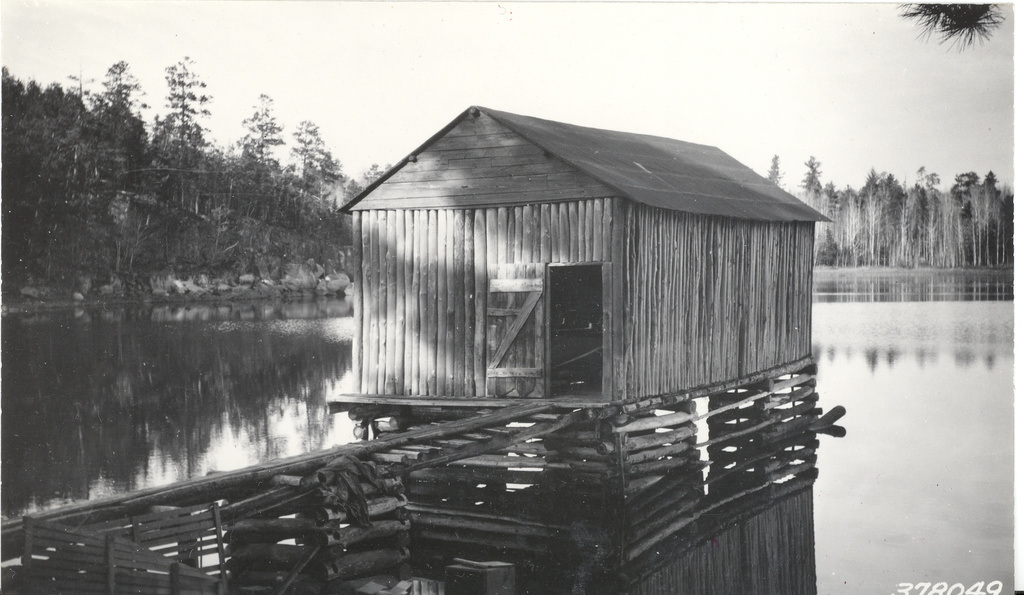Tree: (1, 3, 1014, 274)
